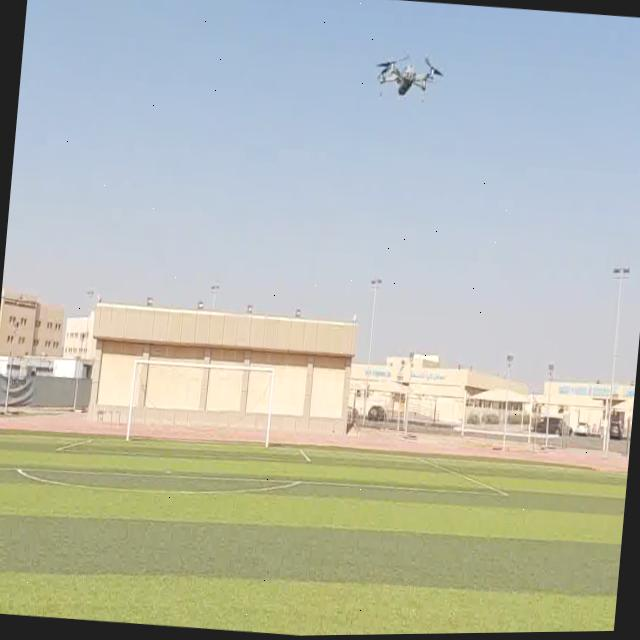drone: (372, 48, 442, 113)
